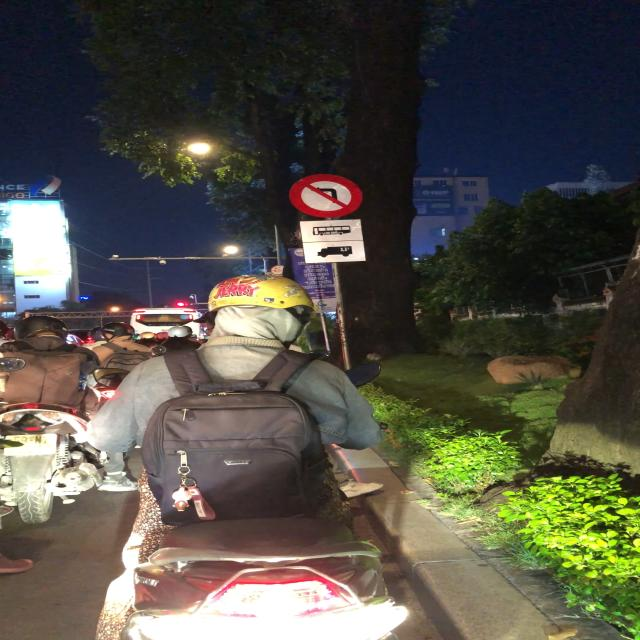Bien bao cam re trai: (286, 172, 366, 219)
